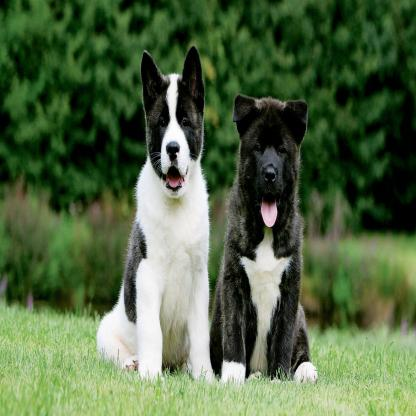American Akita: (116, 28, 222, 386), (214, 63, 326, 395)
